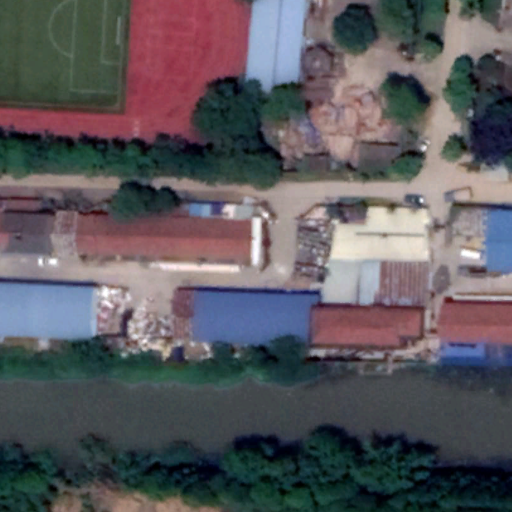msw: (99, 286, 180, 346)
